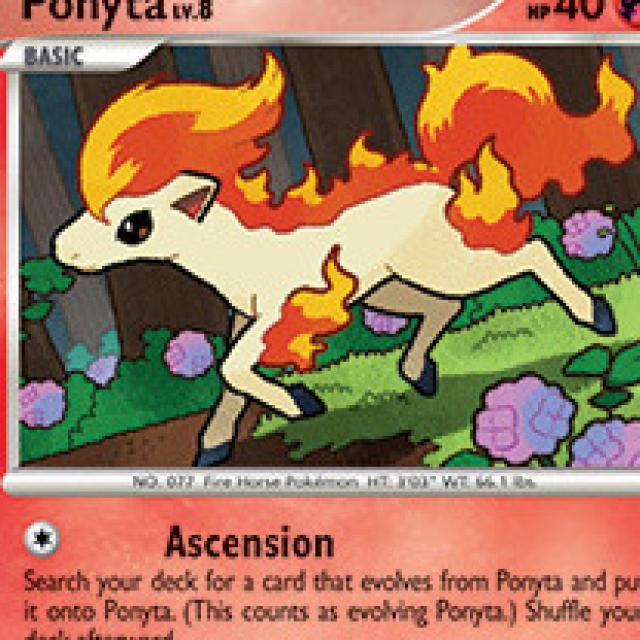Ponyta: (66, 80, 629, 382)
